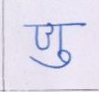u_matra: (30, 50, 74, 70)
